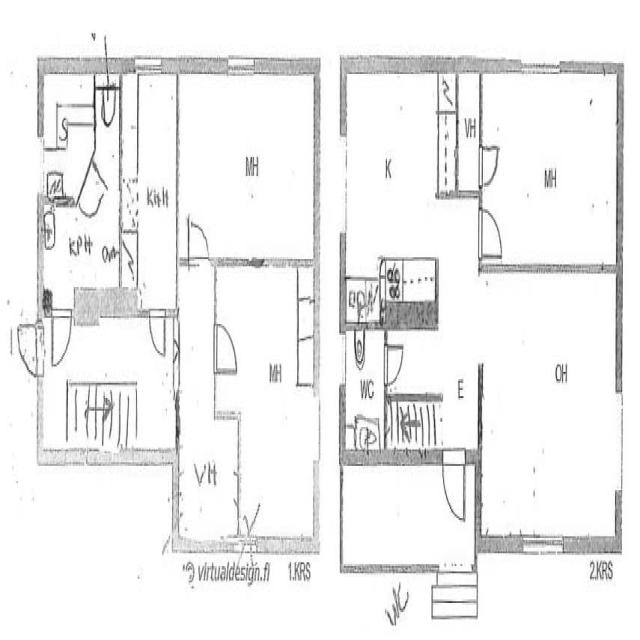door: (440, 448, 468, 527), (212, 316, 241, 377), (478, 202, 504, 263), (186, 212, 212, 270), (50, 306, 73, 369), (478, 137, 501, 191), (383, 335, 406, 389), (18, 321, 40, 377), (148, 305, 167, 362)
window: (610, 377, 626, 502), (336, 126, 350, 240), (310, 386, 322, 469), (35, 129, 46, 198), (337, 325, 348, 392), (160, 529, 175, 561), (228, 56, 256, 72), (131, 54, 160, 69)
zone: (484, 271, 621, 546), (480, 73, 620, 268), (179, 73, 316, 263), (343, 68, 439, 308), (213, 264, 318, 418), (122, 69, 178, 308), (238, 410, 319, 547), (42, 70, 106, 204), (178, 415, 241, 545), (42, 205, 121, 302), (342, 320, 386, 457), (385, 396, 439, 460), (456, 65, 481, 196), (438, 68, 458, 198), (343, 276, 380, 324), (16, 320, 40, 379)
